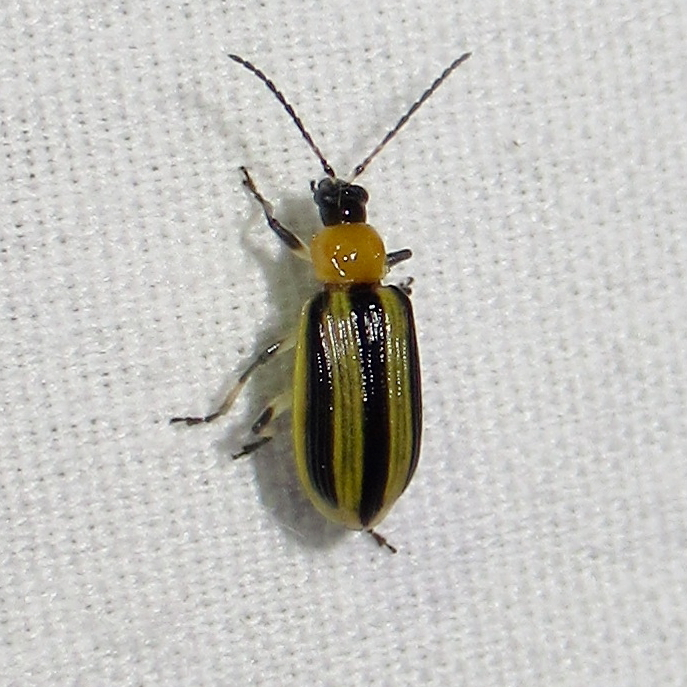potato_beetle: (131, 17, 542, 582)
